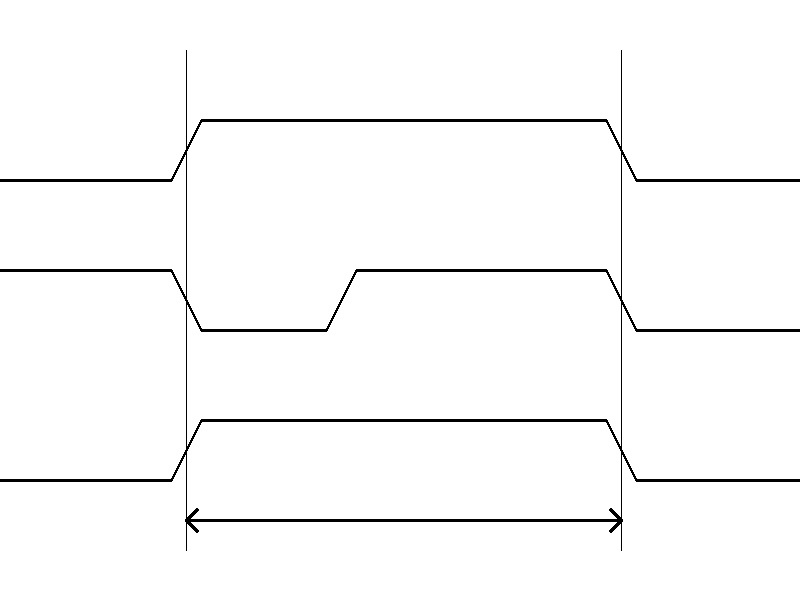double_arrow: (186, 505, 621, 535)
